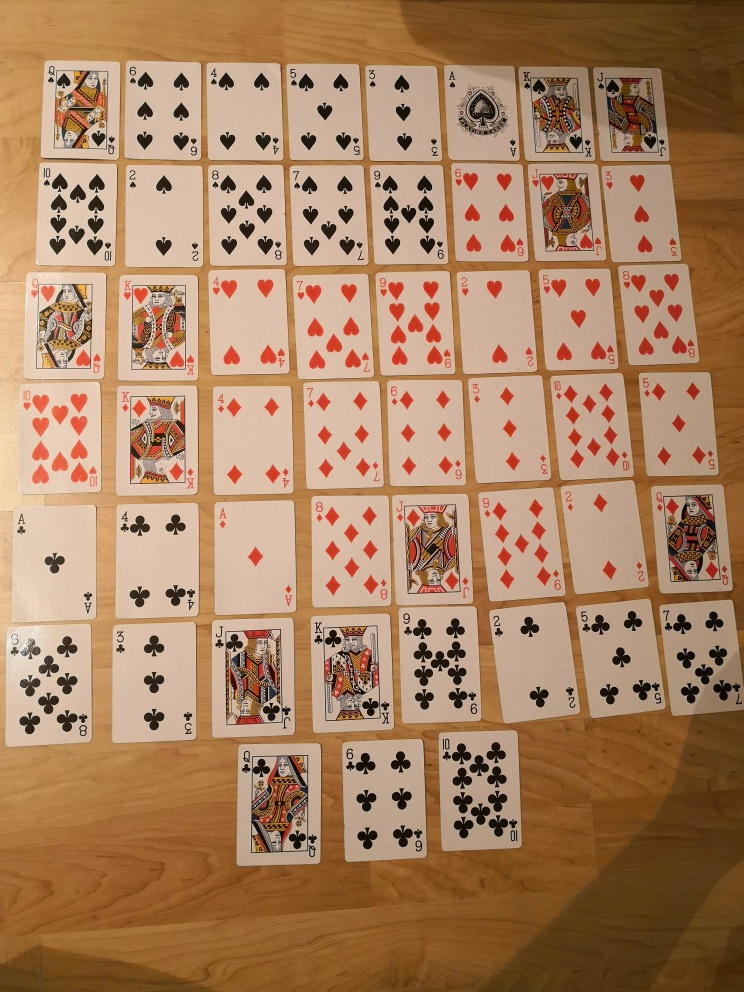10: (438, 730, 524, 853), (18, 382, 102, 495), (551, 371, 636, 481), (36, 161, 118, 267)
2: (488, 602, 580, 725), (559, 481, 649, 597), (456, 269, 538, 375), (125, 164, 205, 268)
3: (110, 621, 198, 745), (468, 375, 553, 485), (605, 164, 681, 263), (365, 65, 442, 162)
4: (116, 503, 198, 619), (212, 385, 293, 495), (207, 268, 289, 375), (206, 62, 283, 162)
5: (575, 599, 667, 720), (637, 371, 720, 477), (539, 267, 618, 370), (288, 62, 365, 162)
6: (341, 737, 426, 862), (387, 378, 467, 487), (125, 59, 203, 160), (451, 161, 528, 262)
7: (659, 599, 744, 717), (291, 273, 375, 380), (302, 380, 384, 489), (288, 164, 370, 267)
8: (6, 622, 94, 748), (310, 495, 391, 608), (616, 263, 702, 367), (207, 164, 288, 267)
9: (477, 486, 567, 603), (397, 606, 482, 725), (373, 270, 458, 377), (369, 163, 449, 266)
ace: (10, 503, 98, 621), (213, 499, 296, 614), (443, 63, 519, 162)
jack: (211, 618, 297, 739), (391, 493, 475, 606), (527, 162, 607, 262), (593, 66, 670, 161)
king: (309, 613, 394, 733), (114, 385, 197, 496), (117, 273, 199, 382), (519, 65, 596, 161)
queen: (235, 741, 322, 866), (651, 483, 734, 594), (24, 271, 106, 380), (41, 60, 119, 160)
